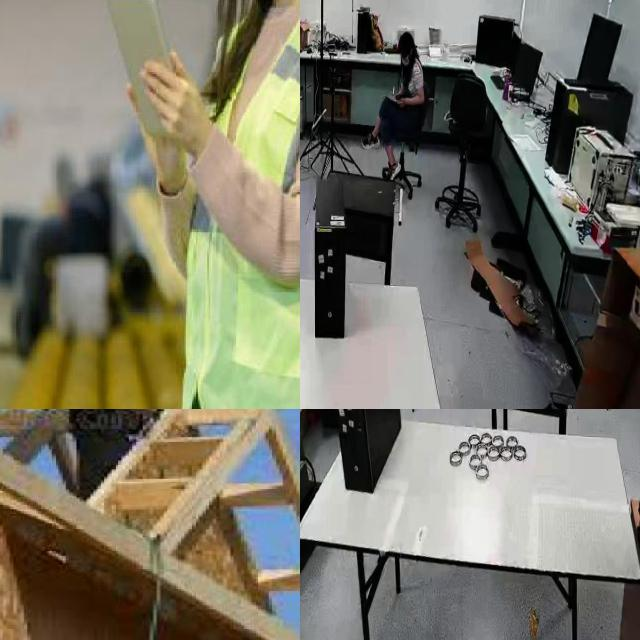face_mask: (398, 43, 414, 73)
glasses: (360, 128, 381, 152), (384, 153, 402, 180)
hand_noglove: (396, 95, 406, 110)
head_nohelmet: (397, 31, 415, 43)
person: (104, 0, 300, 409), (364, 26, 428, 186)
vest: (171, 0, 300, 409)
